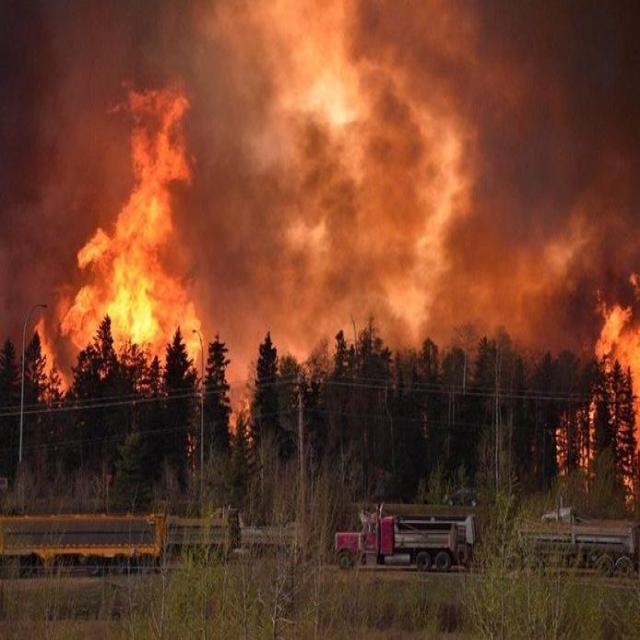Fire: (59, 86, 194, 379), (566, 278, 638, 449)
Smoke: (182, 19, 532, 390)
